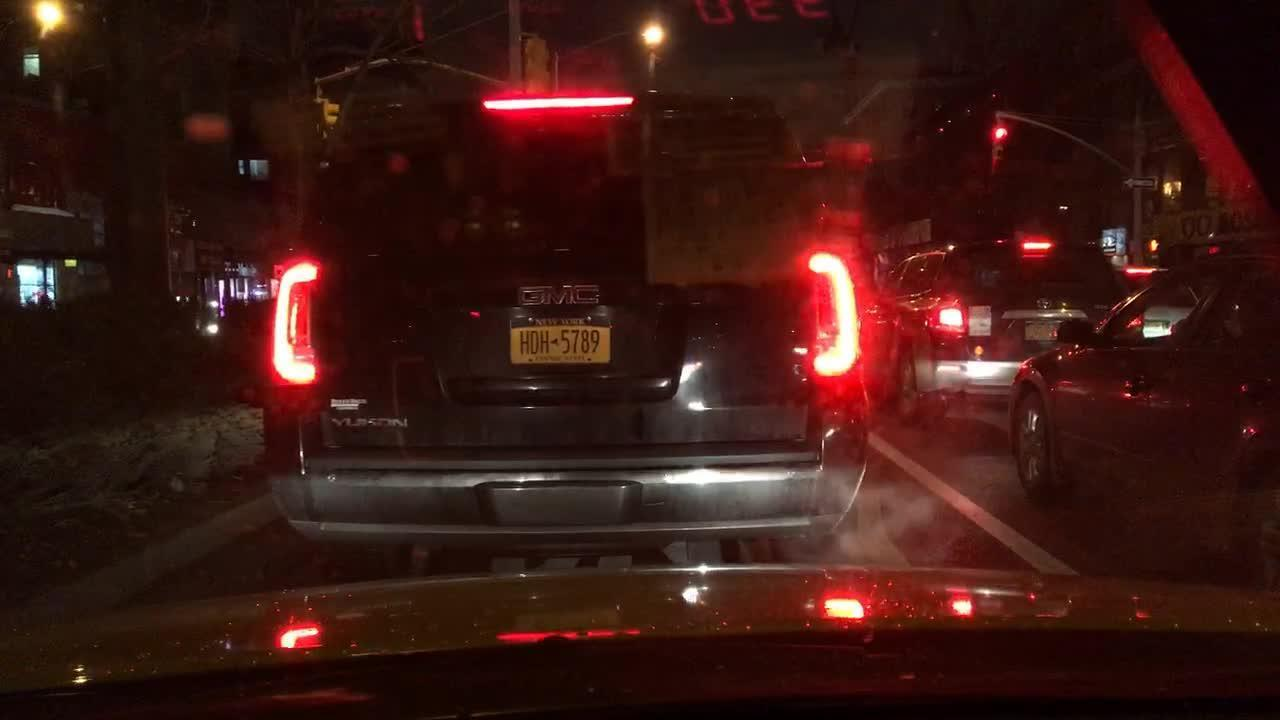GMC: (518, 282, 599, 308)
